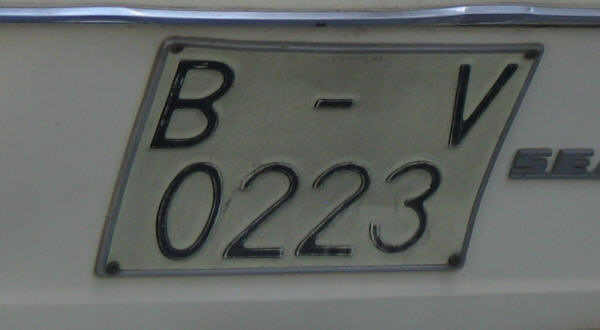license_plate: (93, 37, 544, 278)
